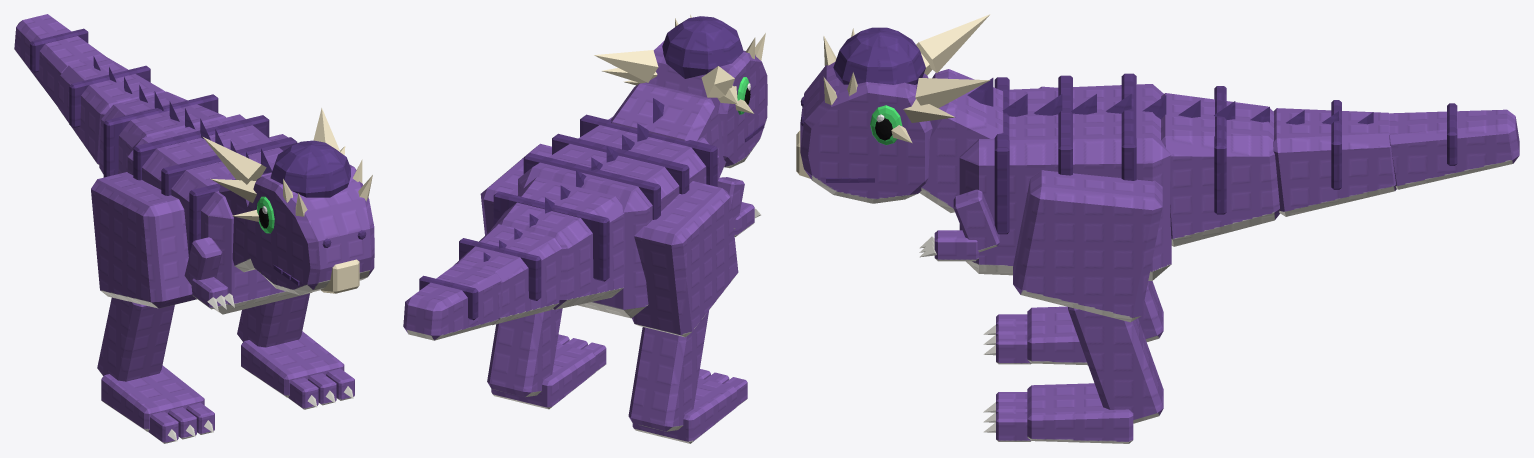
Rendered from 29_Dracorex.glb.
The picture shows the model from 3 angles, left to right: view 1: azimuth 30°, elevation 25°; view 2: azimuth 150°, elevation 25°; view 3: azimuth 270°, elevation 25°; orthographic projection. The views are drawn at different scales.
Visible parts, largest first — view 1: 29_Dracorex; view 2: 29_Dracorex; view 3: 29_Dracorex.
Part boxes in pixels (<box>): 29_Dracorex: <box>14,14,374,443</box>; 29_Dracorex: <box>403,14,767,443</box>; 29_Dracorex: <box>796,14,1519,443</box>.
Bounding box in the file's own units: 1.79 × 2.68 × 4.92.
Materials: 1 (1 with a texture image).
